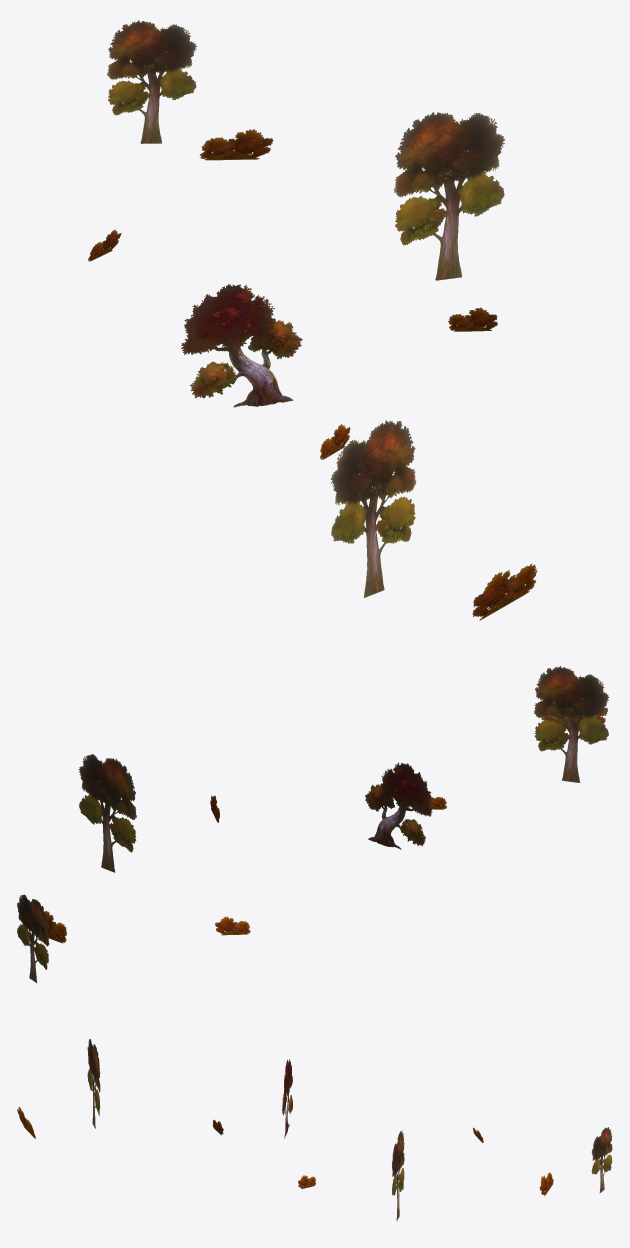
Rendered from tree01.FBX.
3 renders of one model, top to bottom at view 1: azimuth 30°, elevation 25°; view 2: azimuth 150°, elevation 25°; view 3: azimuth 270°, elevation 25°, orthographic. The views are drawn at different scales.
Visible parts, largest first — view 1: tree01; view 2: tree01; view 3: tree01.
Part boxes in pixels (x1,y1,x2,y2): tree01: [88, 20, 537, 620]; tree01: [17, 666, 609, 982]; tree01: [17, 1039, 612, 1221].
Bounding box in the file's own units: 31950 × 10855 × 67176.
